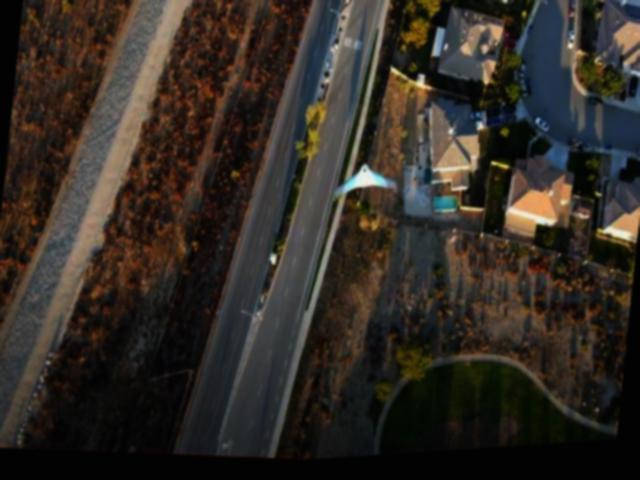iha: (331, 158, 402, 205)
